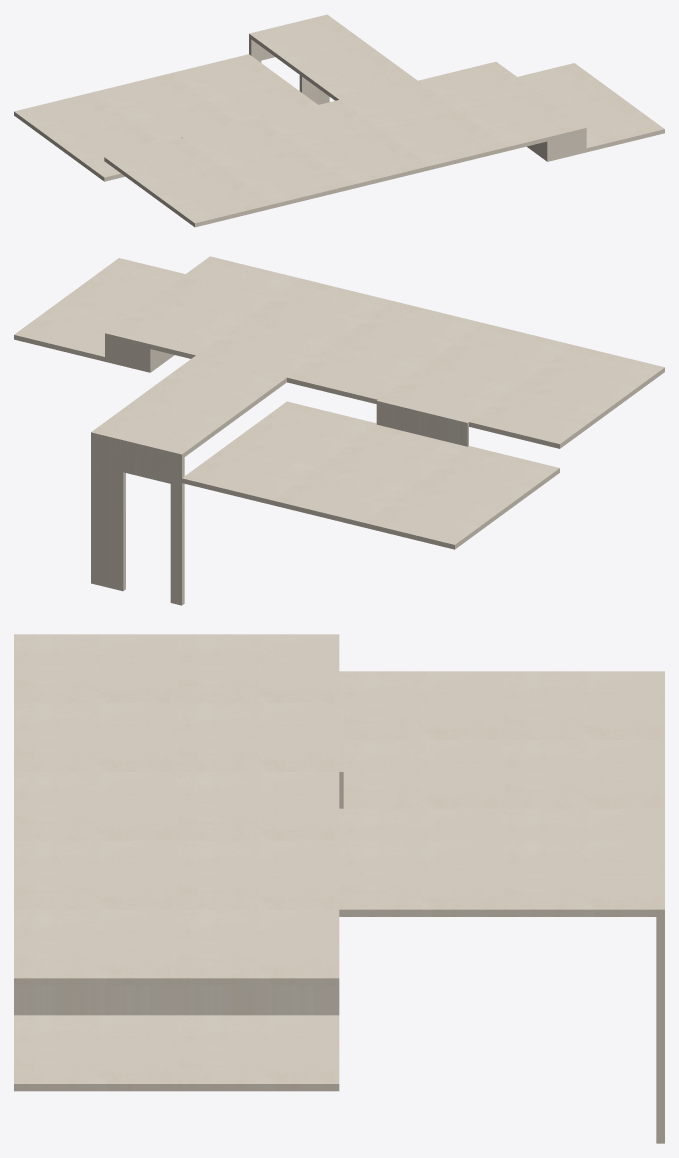
The model's file is Tiles_House_Ceiling.fbx.
3 renders of one model, top to bottom at view 1: azimuth 30°, elevation 25°; view 2: azimuth 150°, elevation 25°; view 3: azimuth 270°, elevation 25°, orthographic. The views are drawn at different scales.
Parts seen in each view (by area): view 1: Plafond; view 2: Plafond; view 3: Plafond.
Part boxes in pixels (x1,y1,x2,y2): Plafond: (14,14,664,227); Plafond: (14,256,664,605); Plafond: (14,634,664,1143).
Size of the model in its own units: 1200 by 317 by 800.
